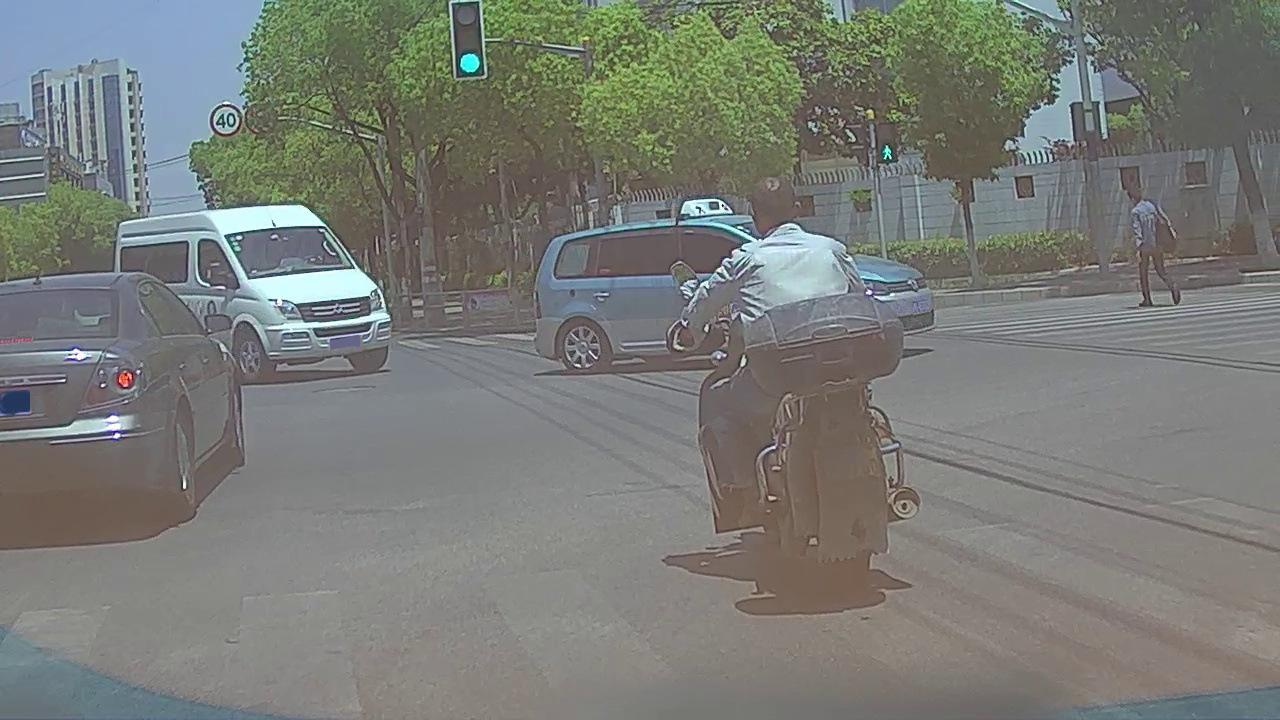traffic_light: (450, 6, 484, 79)
